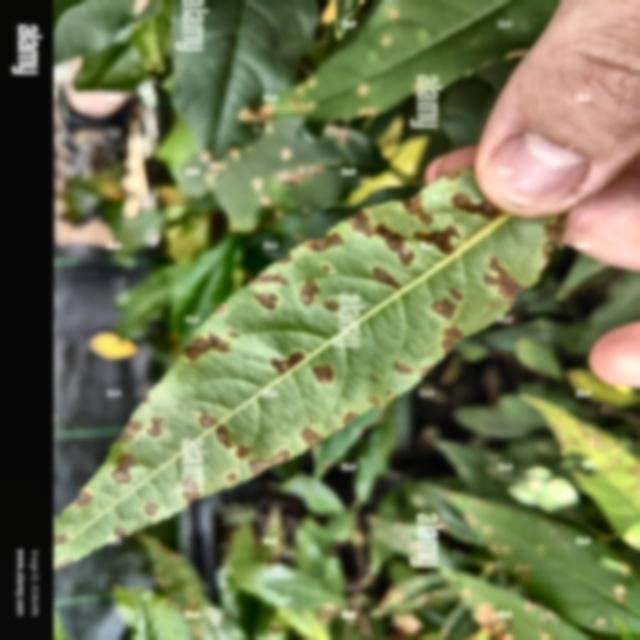leaf_spot: (69, 69, 479, 629)
